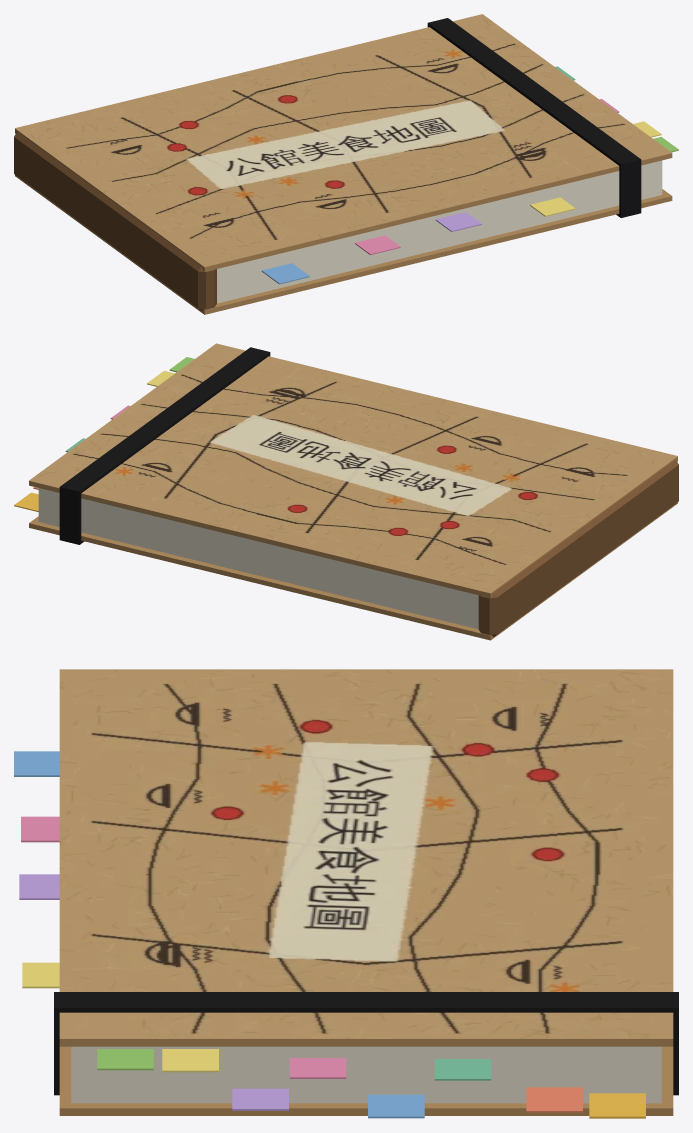
File: notebook_foodmap.glb
The picture shows the model from 3 angles, top to bottom: view 1: azimuth 30°, elevation 25°; view 2: azimuth 150°, elevation 25°; view 3: azimuth 270°, elevation 25°; orthographic projection. The views are drawn at different scales.
Parts seen in each view (by area): view 1: foodmap_cover, foodmap_pages, foodmap_spine, foodmap_boards, foodmap_band, foodmap_tabs; view 2: foodmap_cover, foodmap_pages, foodmap_spine, foodmap_boards, foodmap_band, foodmap_tabs; view 3: foodmap_cover, foodmap_pages, foodmap_tabs, foodmap_band, foodmap_boards.
Part boxes in pixels (x1,y1,x2,y2): foodmap_cover: (15, 14, 671, 266); foodmap_pages: (217, 160, 662, 303); foodmap_spine: (14, 132, 216, 311); foodmap_boards: (15, 128, 672, 314); foodmap_band: (427, 18, 641, 217); foodmap_tabs: (261, 66, 678, 284); foodmap_cover: (29, 343, 677, 593); foodmap_pages: (38, 488, 478, 629); foodmap_spine: (478, 460, 678, 636); foodmap_boards: (29, 456, 677, 640); foodmap_band: (59, 347, 270, 544); foodmap_tabs: (14, 357, 194, 511); foodmap_cover: (59, 669, 673, 1038); foodmap_pages: (71, 1046, 661, 1103); foodmap_tabs: (14, 751, 645, 1118); foodmap_band: (54, 992, 678, 1095); foodmap_boards: (59, 1038, 673, 1115).
Bounding box in the file's own units: 0.1958 × 0.0204 × 0.1409.
Materials: 6 (1 with a texture image).
